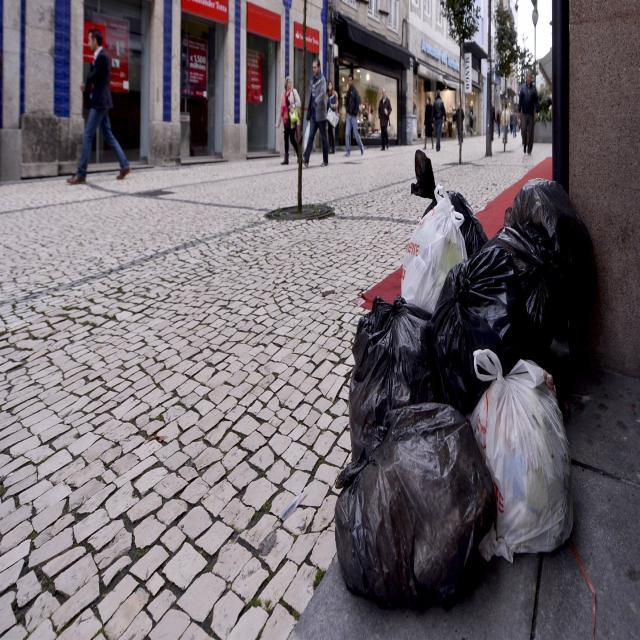garbage: (331, 153, 606, 620)
